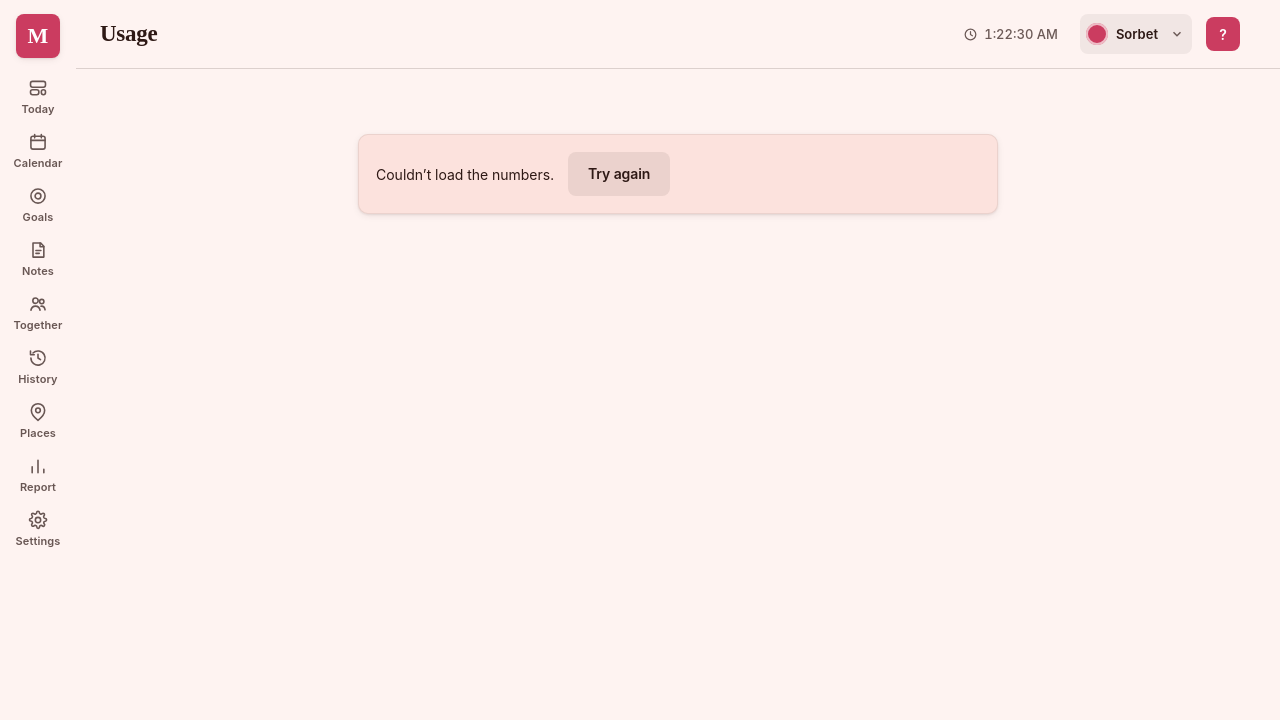
AdminUsage › offers to try again when the numbers cannot be loaded, and then loads them
Expected: the text "Couldn’t load the numbers." is shown, left=376, top=166, right=554, bottom=183
Click the button "Try again" at (619, 174), box left=568, top=152, right=670, bottom=196
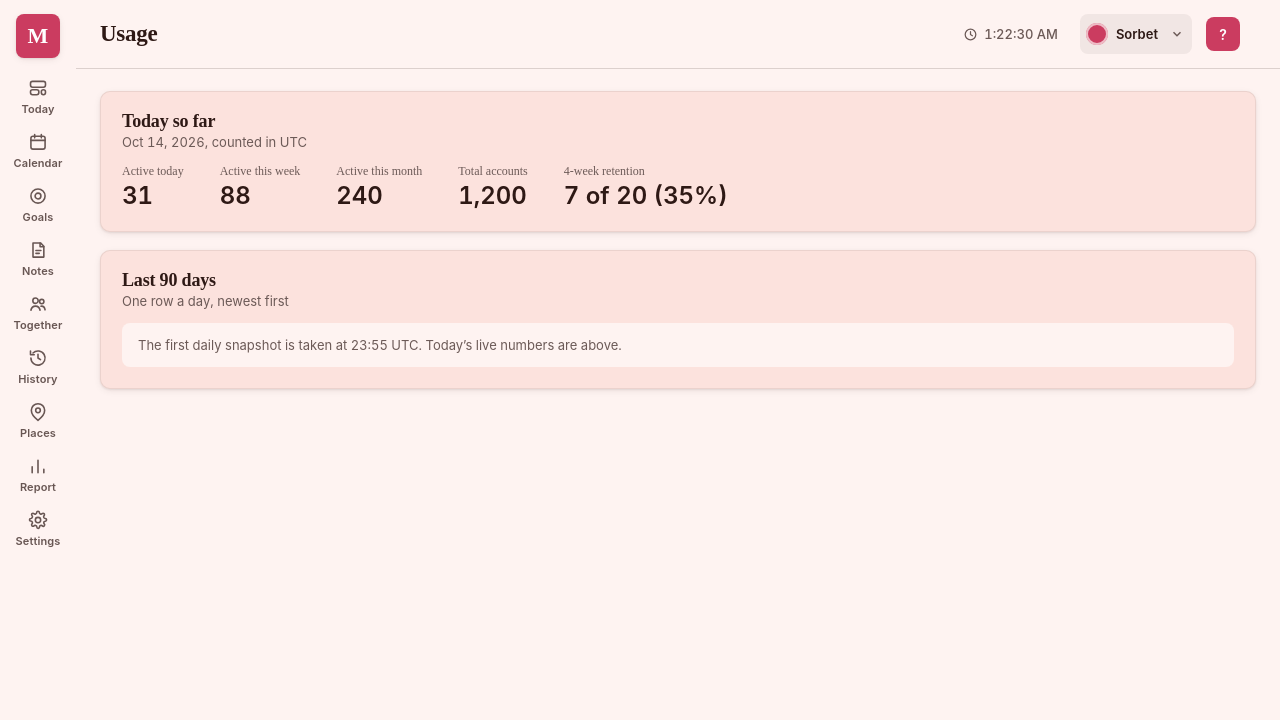
Expected: the element "Today so far" is shown, left=100, top=91, right=1256, bottom=232
